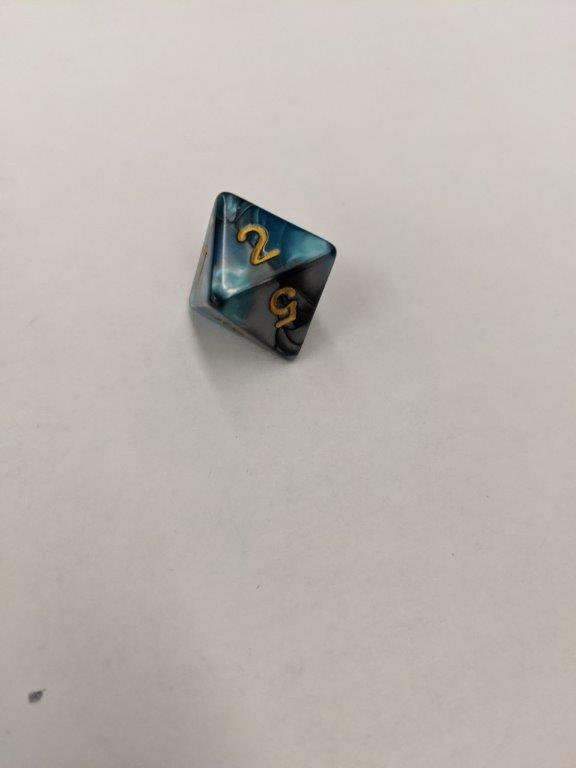d8-2: (186, 191, 339, 361)
